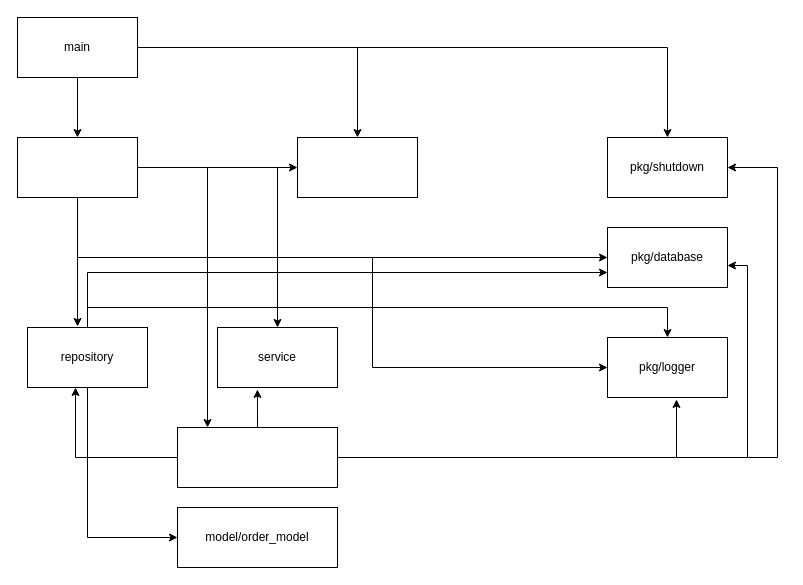
Image size: 803x585. Some labels were removed from this diagram. The shapes that lost their labels are listed below. From the top down, each one's box as (x1, y1, x2, y2) in pixels, then its label:
(16, 136, 138, 198): worker
(296, 136, 418, 198): config
(176, 426, 338, 488): service/order_service
